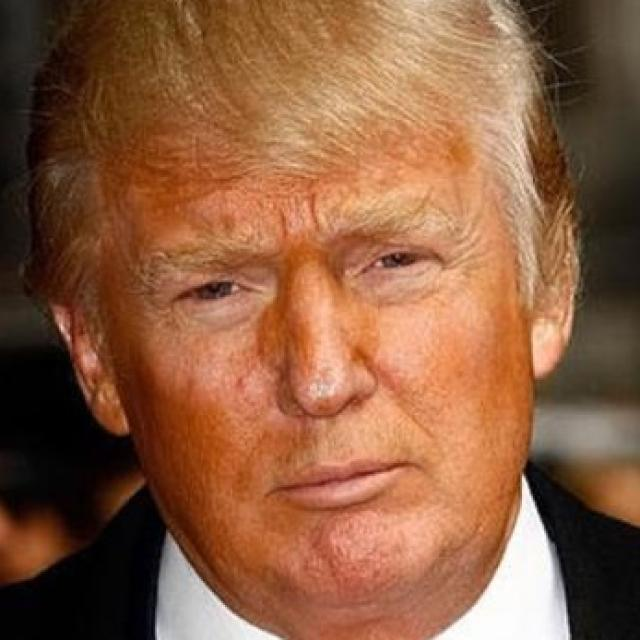Depress: (96, 116, 537, 622)
